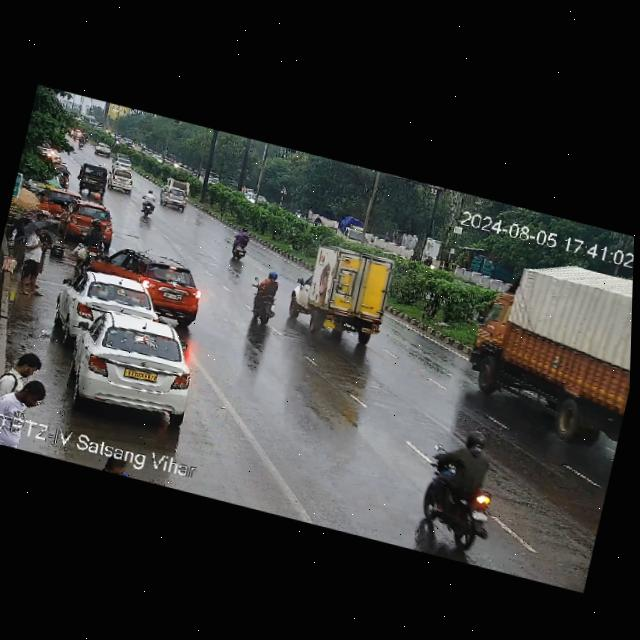car: (44, 297, 206, 432), (83, 238, 211, 325), (55, 264, 171, 351), (63, 199, 119, 242), (38, 182, 85, 225), (77, 161, 115, 198), (107, 166, 141, 195), (156, 187, 192, 213), (110, 155, 137, 171), (94, 142, 113, 158)
motorcycle: (412, 418, 513, 561), (245, 266, 287, 328), (222, 225, 259, 265), (78, 217, 111, 256), (136, 192, 164, 222), (77, 131, 94, 154), (312, 215, 323, 228), (295, 210, 304, 220)
person: (0, 369, 49, 454), (9, 216, 56, 300), (6, 347, 45, 386), (56, 167, 75, 188)
truck: (450, 244, 634, 453), (283, 235, 401, 349), (335, 216, 370, 248)
